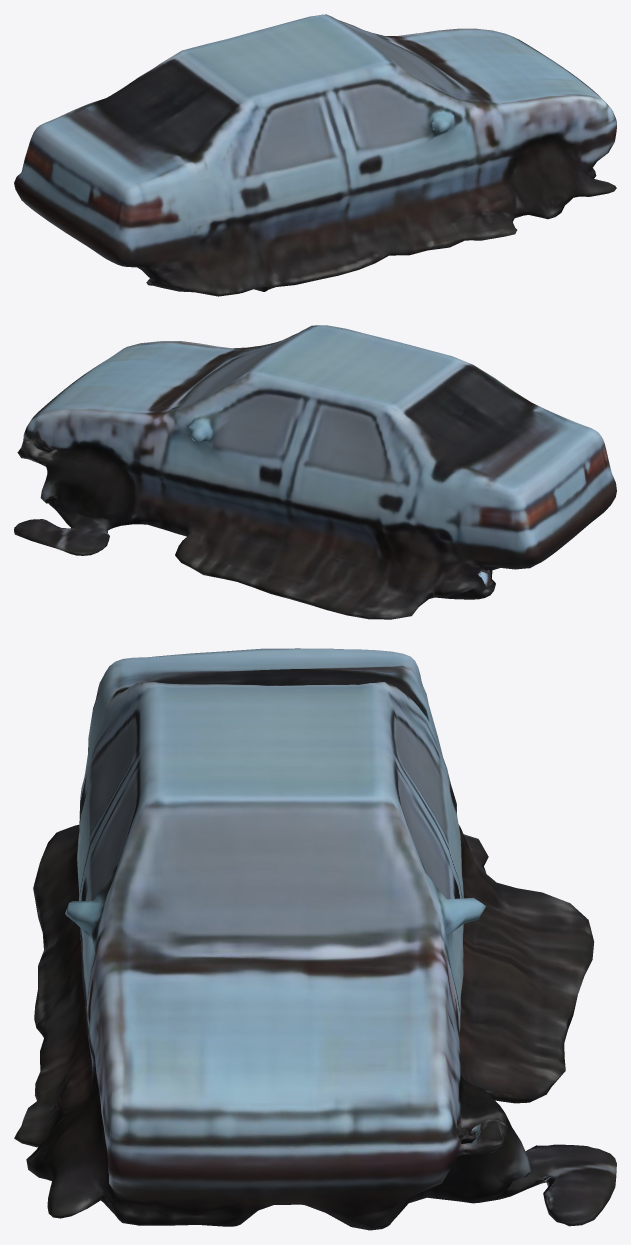
The model's file is abandoned_car06.glb.
3 renders of one model, top to bottom at view 1: azimuth 30°, elevation 25°; view 2: azimuth 150°, elevation 25°; view 3: azimuth 270°, elevation 25°, orthographic. The views are drawn at different scales.
Parts seen in each view (by area): view 1: mesh; view 2: mesh; view 3: mesh.
Boxes of the visible parts, x1=… form: mesh: x1=14, y1=14, x2=616, y2=296; mesh: x1=14, y1=325, x2=616, y2=619; mesh: x1=14, y1=648, x2=616, y2=1230.
Size of the model in its own units: 0.9965 by 0.3114 by 0.5888.
1 material, 1 textured.
